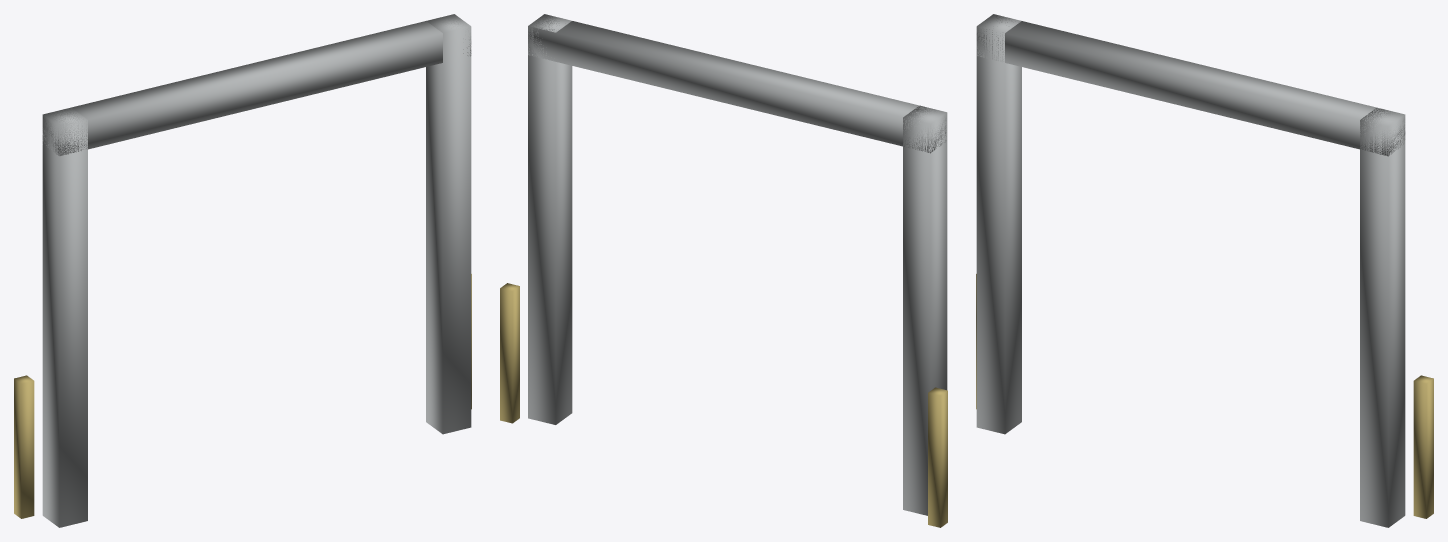
File: atrium_edge_industrial_w220_h220_d18.glb
3 renders of one model, left to right at view 1: azimuth 30°, elevation 25°; view 2: azimuth 150°, elevation 25°; view 3: azimuth 330°, elevation 25°, orthographic. The views are drawn at different scales.
Parts seen in each view (by area): view 1: world; view 2: world; view 3: world.
Boxes of the visible parts, x1=… form: world: x1=14, y1=14, x2=471, y2=527; world: x1=500, y1=14, x2=947, y2=527; world: x1=976, y1=14, x2=1433, y2=527.
Bounding box in the file's own units: 2.79 × 2.38 × 0.28.
